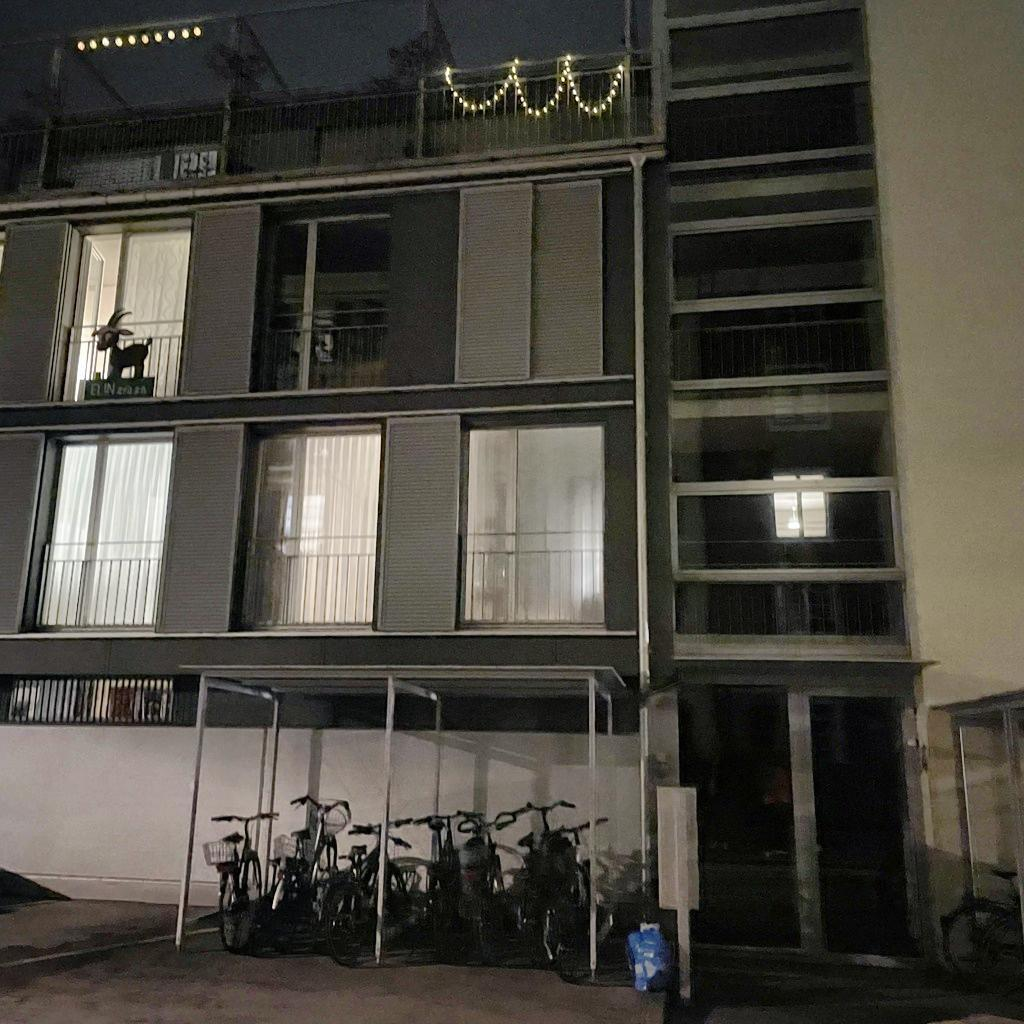balcony-fence: (0, 65, 659, 204), (672, 560, 912, 644), (455, 529, 607, 631), (670, 316, 886, 382), (238, 533, 377, 630), (30, 540, 165, 631), (248, 306, 387, 392), (49, 319, 185, 405), (665, 103, 859, 163)
fence: (0, 672, 640, 928)
non-building-infrastructure: (170, 659, 657, 986), (923, 686, 1024, 996)
street: (0, 0, 1023, 963), (0, 897, 1024, 1024)
window: (455, 178, 604, 385), (459, 423, 606, 624), (240, 423, 381, 626), (33, 439, 174, 629), (255, 209, 391, 391), (62, 229, 194, 404), (775, 471, 829, 539)
